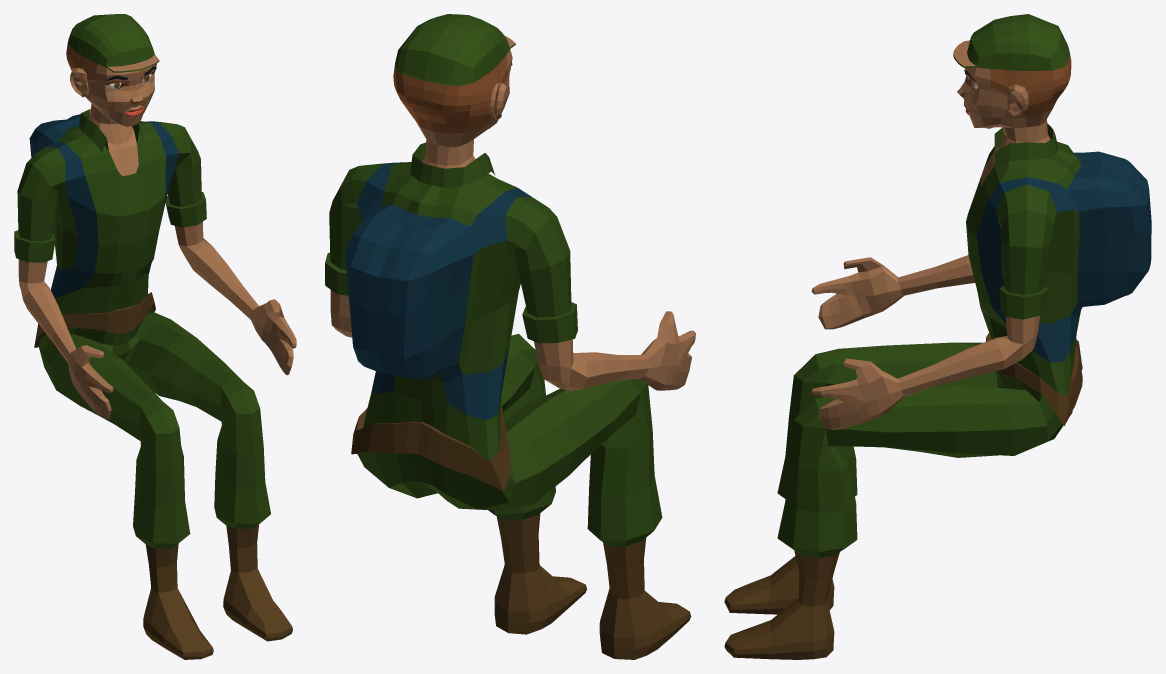
Rendered from Soldier_Sit.fbx.
3 views of the same model, side by side, from view 1: azimuth 30°, elevation 25°; view 2: azimuth 150°, elevation 25°; view 3: azimuth 270°, elevation 25° (orthographic). The views are drawn at different scales.
Parts seen in each view (by area): view 1: Soldier_Sit; view 2: Soldier_Sit; view 3: Soldier_Sit.
Part boxes in pixels (box(x1,y1,x2,y2)): Soldier_Sit: box(14, 14, 296, 659); Soldier_Sit: box(325, 14, 695, 659); Soldier_Sit: box(724, 14, 1151, 659).
Bounding box in the file's own units: 0.3234 × 0.8093 × 0.5152.
